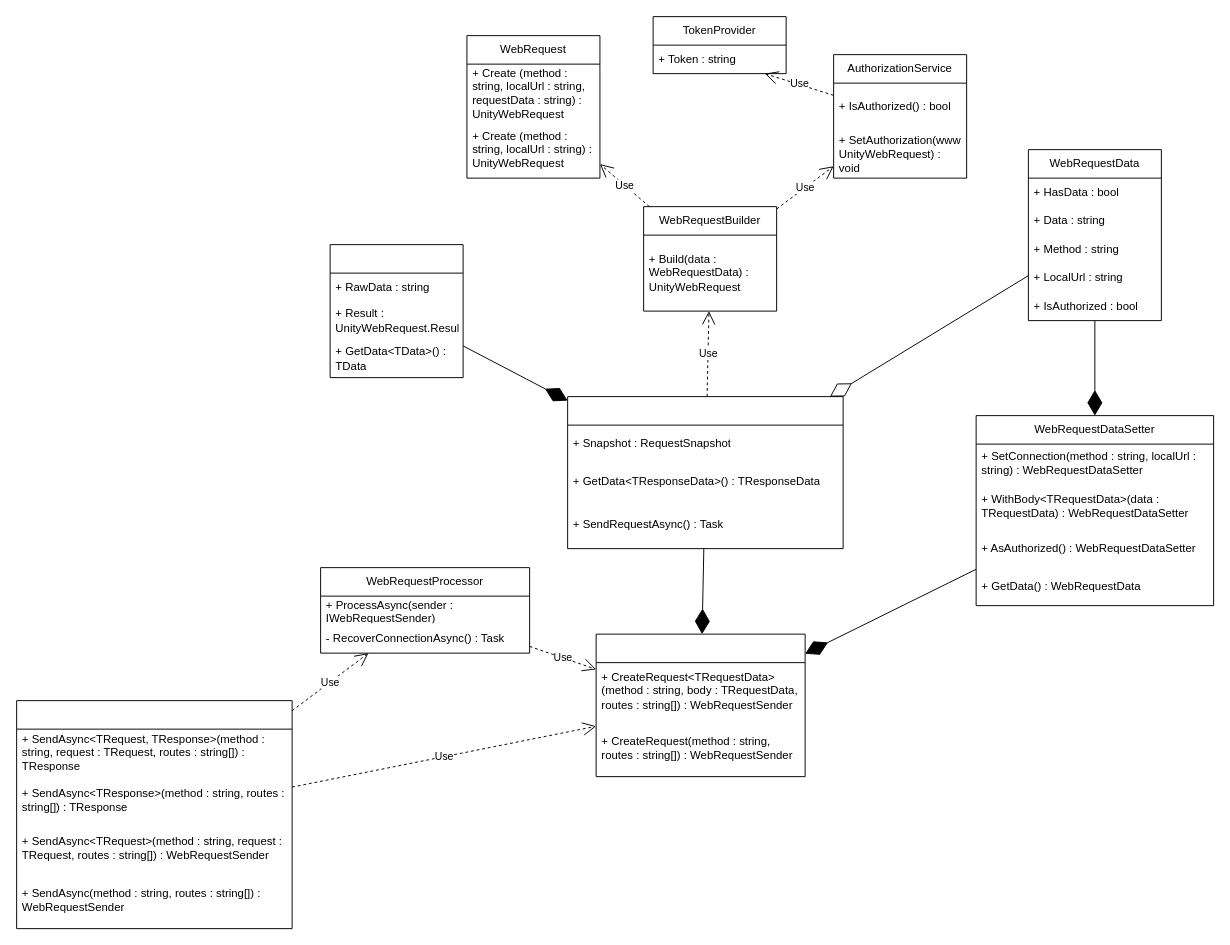
Some shapes in this 1230 by 945 pixel diagram are drawn without their labels. The box of each missing label's shape, as (x1, y1, x2, y2) in pixels:
RequestSnapshot: (329, 244, 463, 378)
WebRequestSender: (567, 396, 843, 549)
WebRequestService: (595, 633, 805, 777)
WebService: (16, 700, 292, 929)
